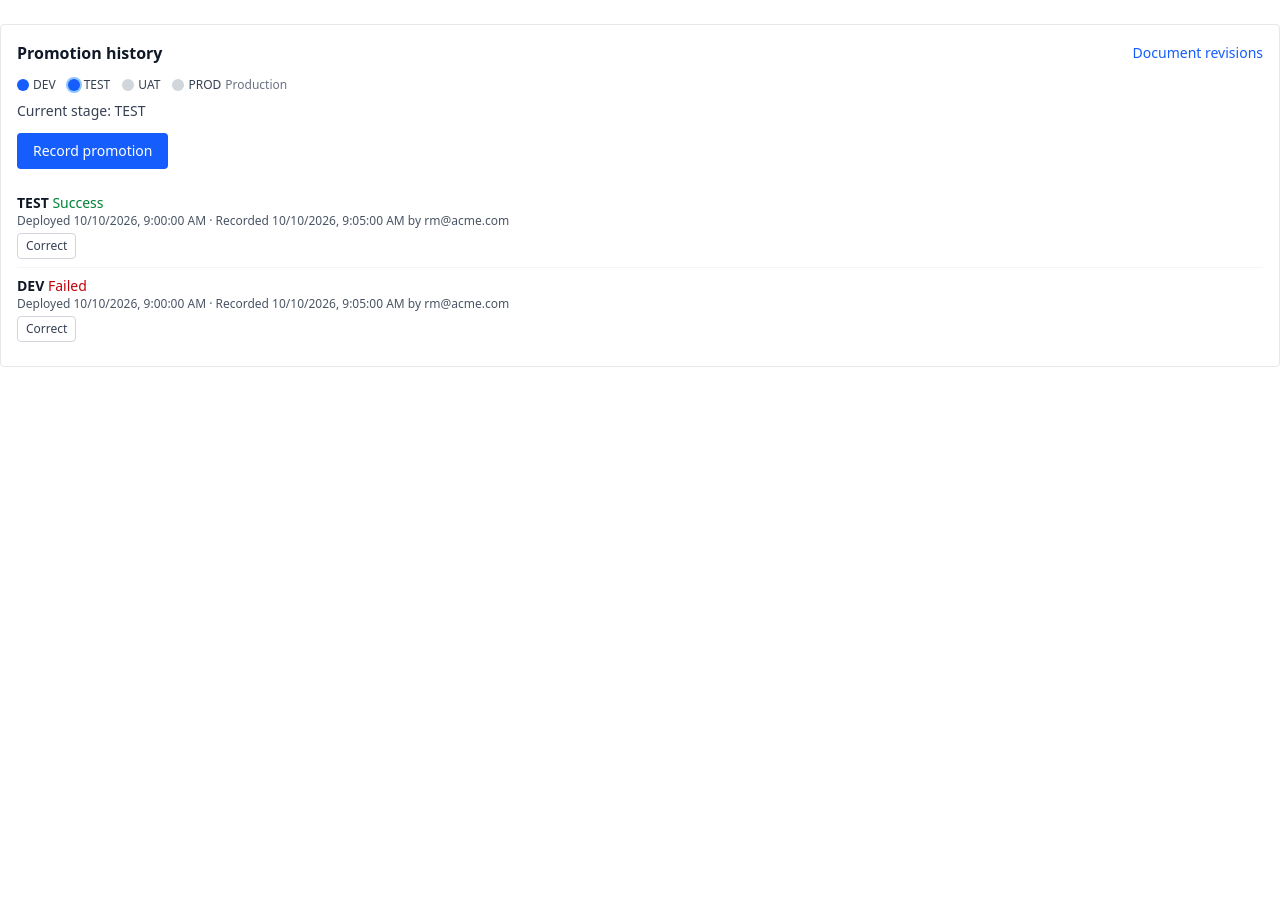
Test: PromotionSection › keeps the dialog open and shows the mapped message on a rejected promotion
Click the button "Record promotion". click: (93, 151)
box: [17, 133, 168, 169]
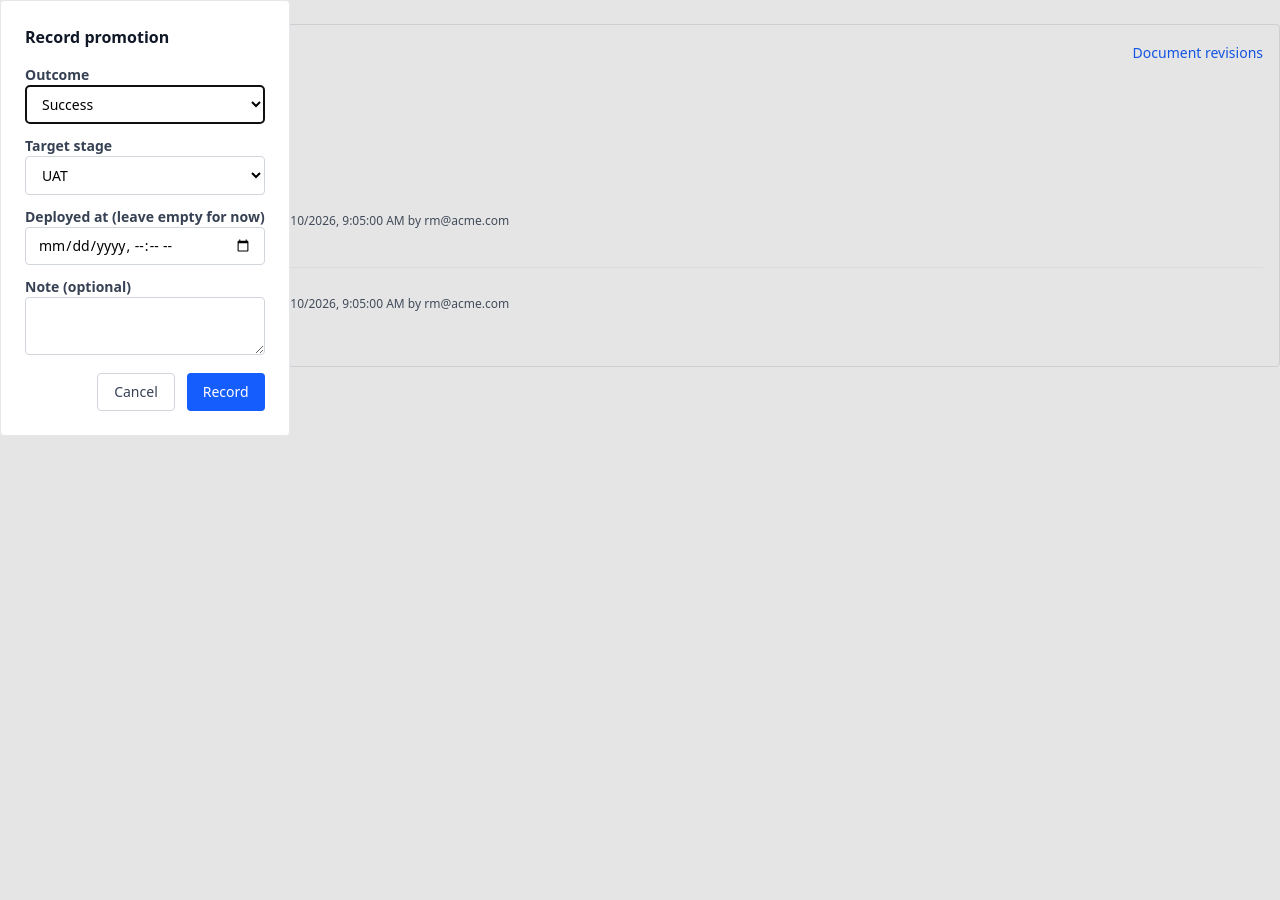
Expected: the button "Record" is shown
Click the button "Record". click: (226, 392)
box: [187, 373, 265, 411]
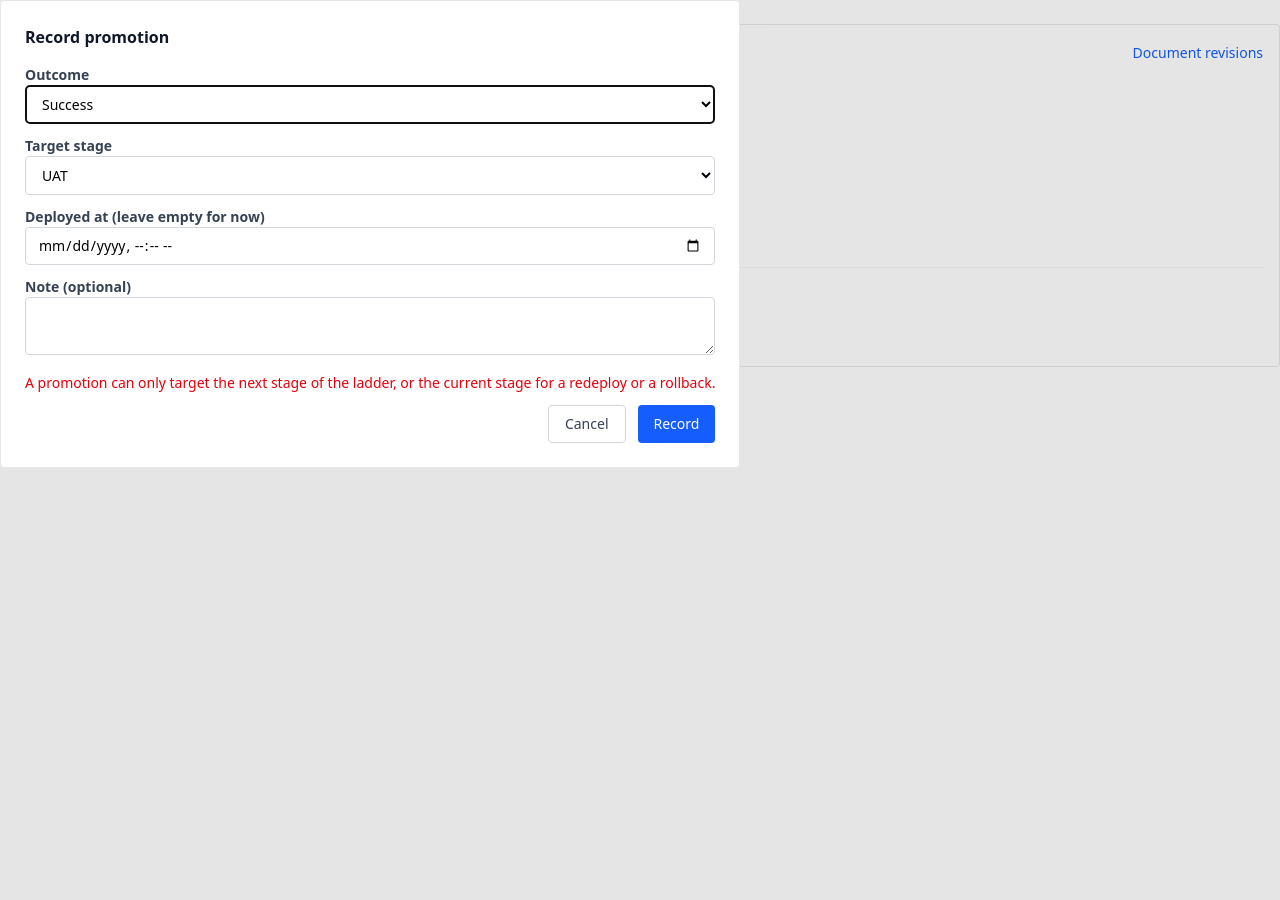
Expected: the message shows "next stage of the ladder", [25, 373, 715, 392]
